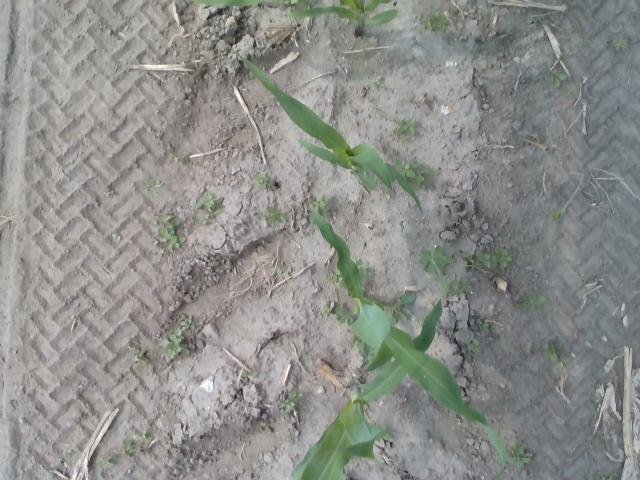Maize: (306, 202, 510, 478), (287, 259, 443, 480), (229, 45, 422, 212), (190, 1, 397, 38)
Weeds: (431, 260, 473, 296), (421, 245, 453, 273), (389, 292, 416, 324), (159, 339, 190, 359), (159, 212, 180, 241), (192, 192, 215, 213), (419, 15, 445, 32), (511, 448, 532, 467), (396, 161, 421, 176), (392, 118, 414, 135), (492, 249, 511, 268), (338, 301, 353, 324), (474, 250, 491, 269), (132, 350, 149, 368), (550, 70, 566, 88), (122, 438, 137, 456), (168, 236, 186, 250), (328, 270, 342, 288), (543, 344, 563, 356), (281, 0, 299, 13), (268, 207, 282, 223), (530, 296, 546, 310), (253, 174, 268, 188), (424, 167, 440, 180), (415, 175, 426, 191), (132, 433, 148, 444), (170, 330, 183, 343), (612, 38, 626, 50), (550, 354, 564, 366), (465, 340, 481, 350), (194, 215, 210, 225), (180, 320, 193, 332), (99, 458, 113, 469), (518, 297, 528, 310), (150, 179, 164, 188), (553, 208, 562, 222), (323, 303, 332, 317), (360, 267, 371, 278), (172, 154, 184, 164), (318, 195, 328, 207), (242, 370, 257, 378), (282, 399, 294, 409), (599, 474, 616, 480), (268, 218, 278, 228), (466, 252, 474, 264), (511, 442, 526, 448), (478, 322, 488, 330), (152, 250, 165, 256), (277, 262, 283, 275), (150, 350, 158, 358), (292, 393, 301, 400), (111, 234, 121, 240), (578, 329, 586, 335), (151, 191, 158, 197), (145, 184, 150, 192), (152, 220, 158, 226), (575, 262, 582, 266), (380, 82, 384, 88), (357, 257, 360, 262)
